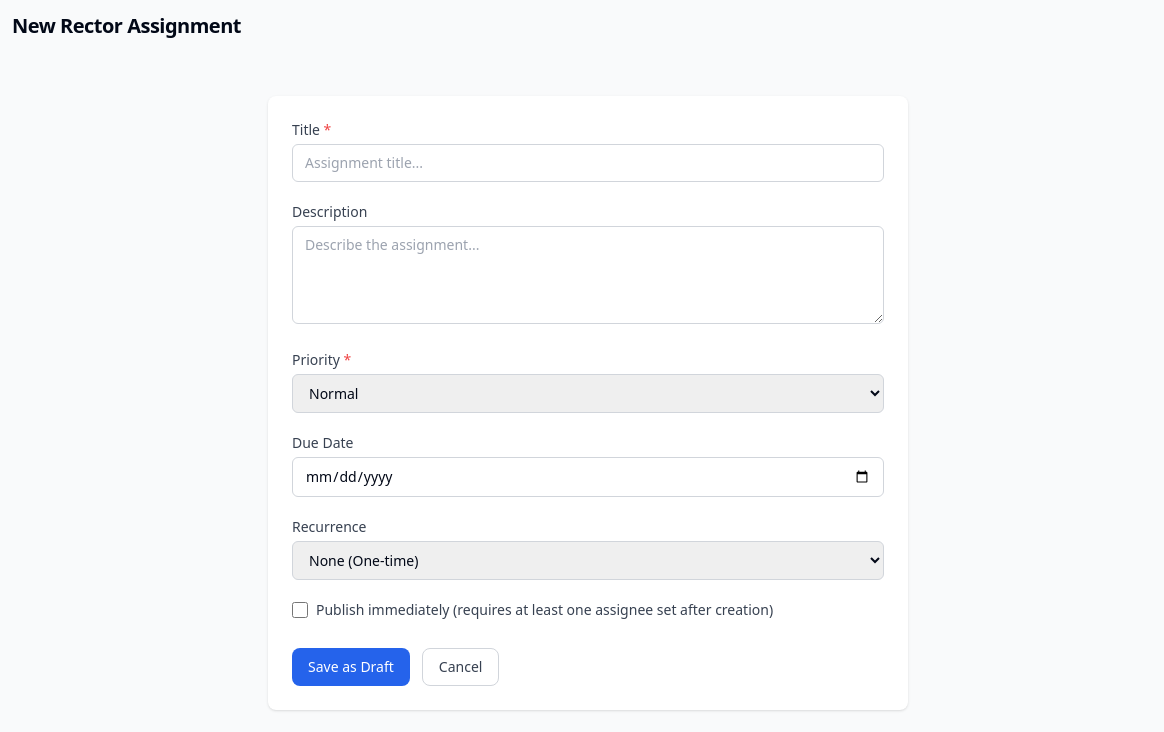
Test: NewRectorAssignmentPage › shows validation error when title is too short
In the field with test id "title-input": x=588, y=163 [292, 144, 884, 182], type "AB"
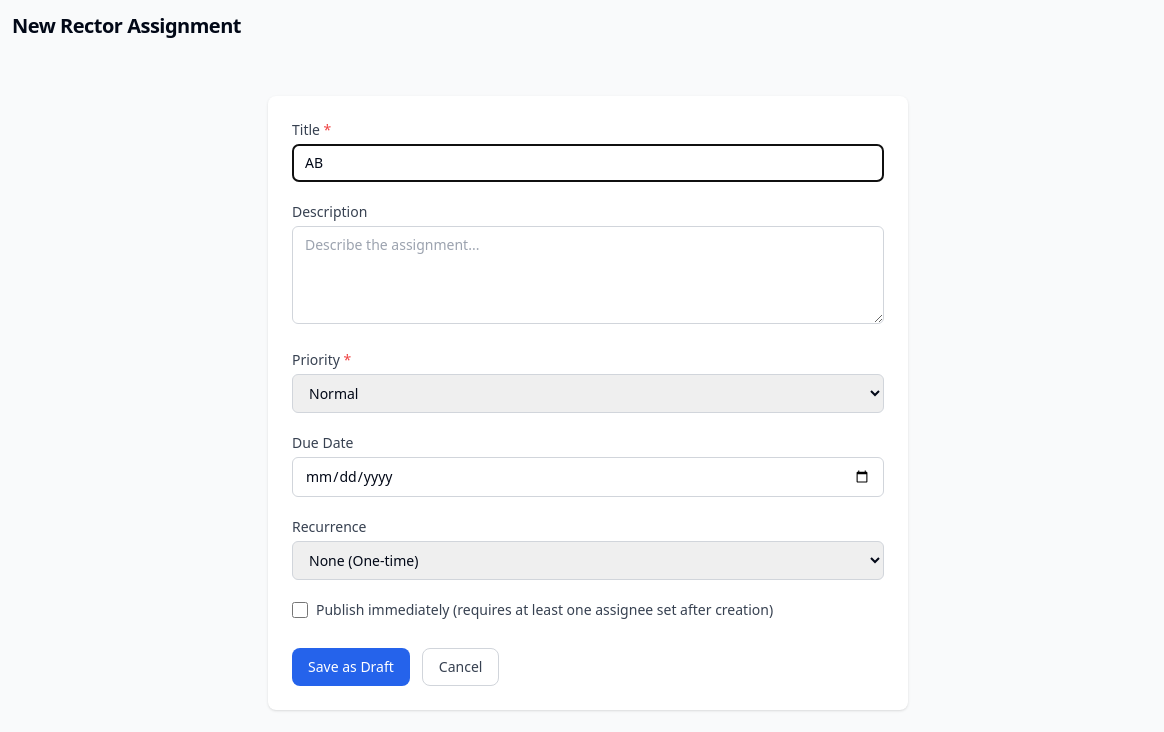
Click the button with test id "submit-btn": x=351, y=667 [292, 648, 410, 686]
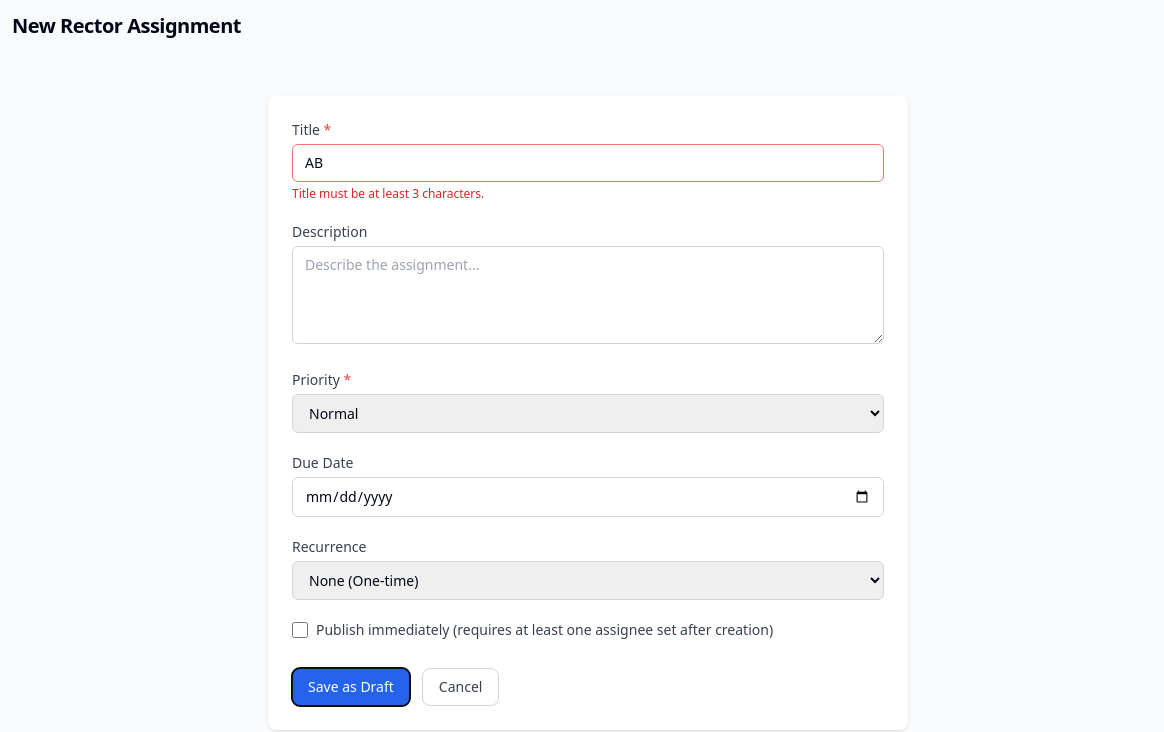
Expected: the text "Title must be at least 3 characters." is shown, [292, 185, 484, 202]
